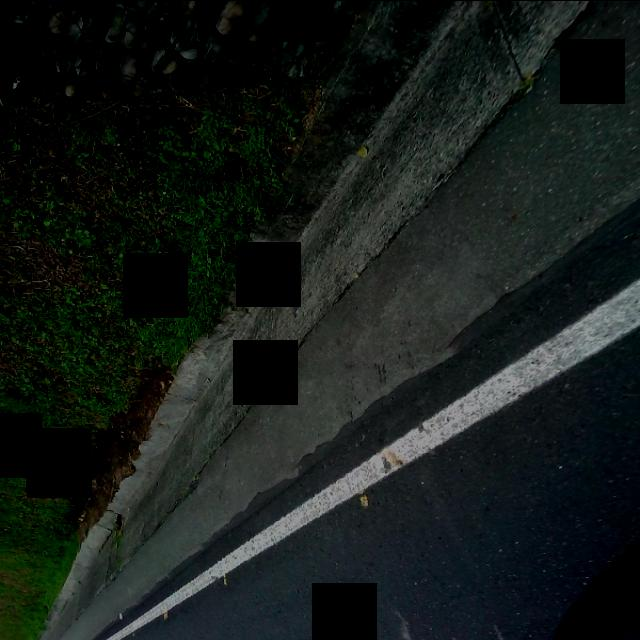DITCH: (1, 2, 638, 638), (39, 2, 638, 638)
